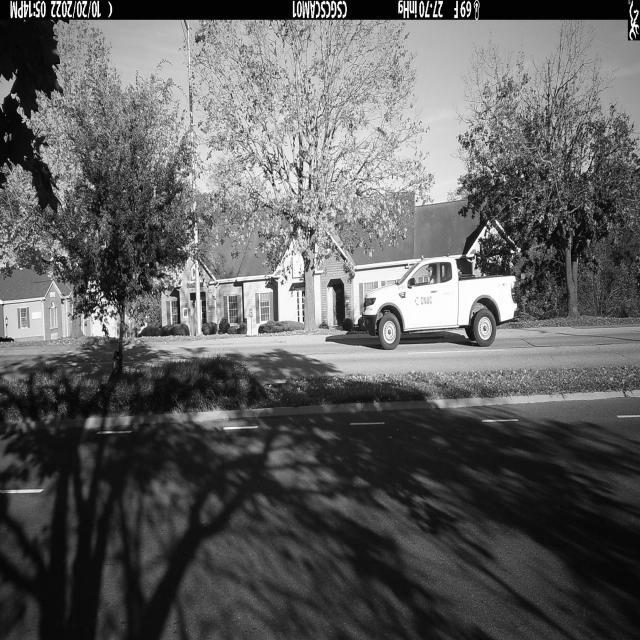Pickup: (363, 258, 520, 350)
